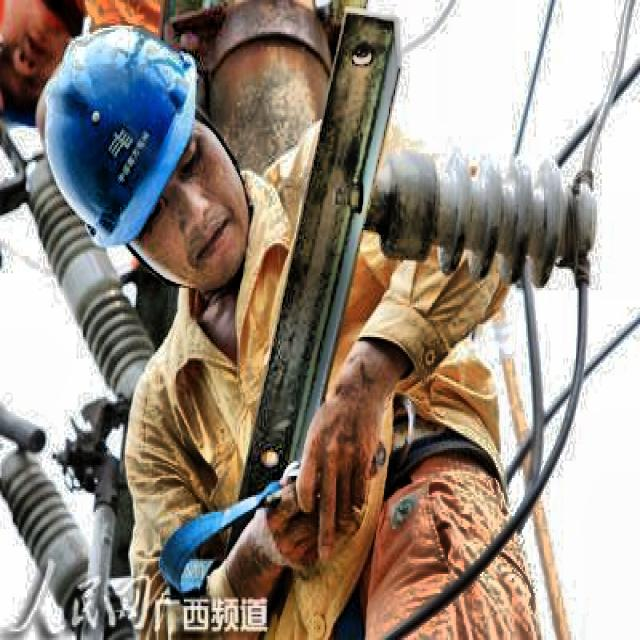helmet: (42, 21, 246, 282)
